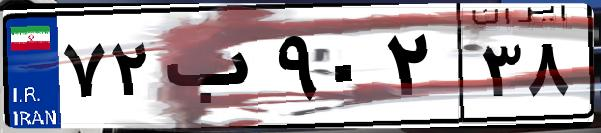0: (330, 28, 385, 110)
2: (385, 28, 445, 110), (110, 28, 158, 98)
3: (475, 38, 525, 113)
7: (57, 26, 110, 100)
8: (525, 38, 570, 115)
9: (270, 28, 330, 110)
ب: (158, 20, 270, 120)
